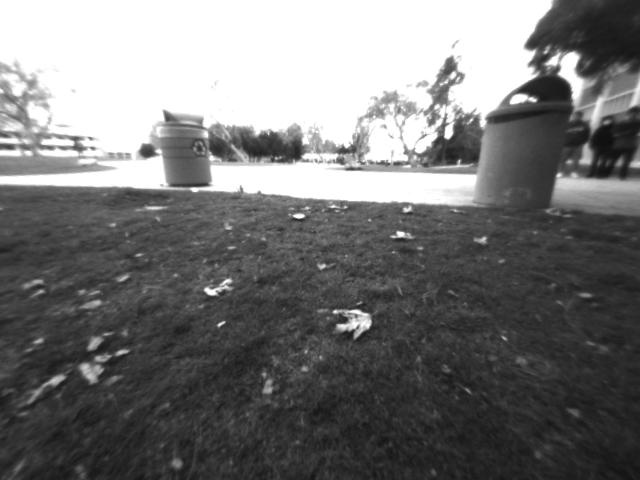trashcan: (472, 62, 583, 225)
